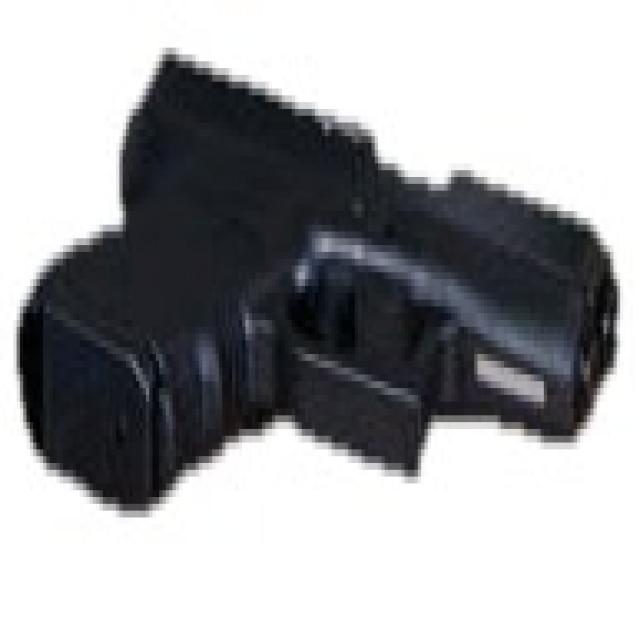pistol: (14, 40, 628, 525)
